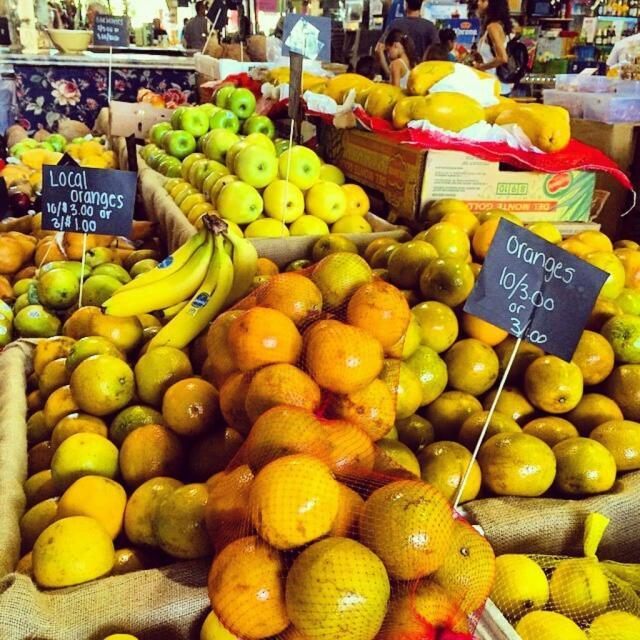Orange: (309, 323, 390, 395), (478, 430, 561, 498), (540, 431, 615, 505), (449, 336, 510, 404), (231, 305, 302, 362), (347, 280, 407, 343), (421, 438, 471, 512), (411, 301, 469, 356), (594, 413, 639, 479), (527, 350, 577, 406), (322, 250, 367, 308), (268, 271, 322, 319), (573, 328, 619, 379), (434, 389, 475, 431), (574, 220, 619, 251), (466, 411, 522, 435), (580, 387, 615, 424), (624, 237, 639, 288), (0, 231, 19, 270)
